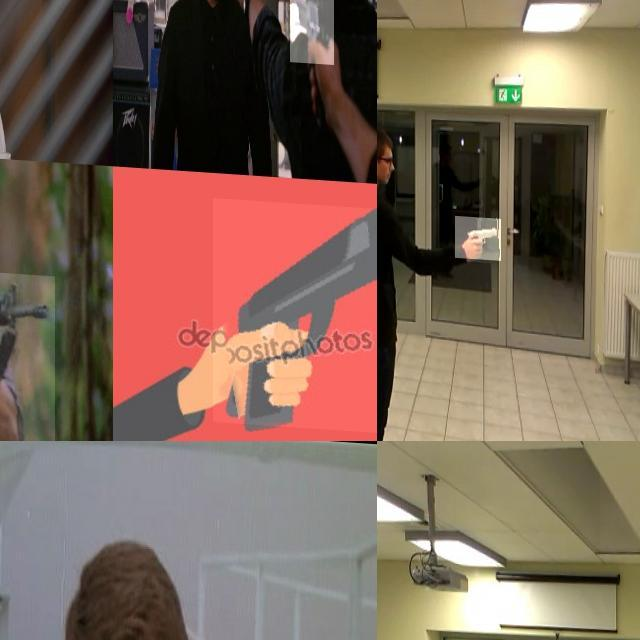gun-knife-thesis - v11 Yolov5 augmented: (212, 192, 377, 427), (0, 262, 101, 441), (0, 0, 53, 149), (290, 0, 333, 57), (455, 210, 501, 254), (230, 0, 258, 36)
